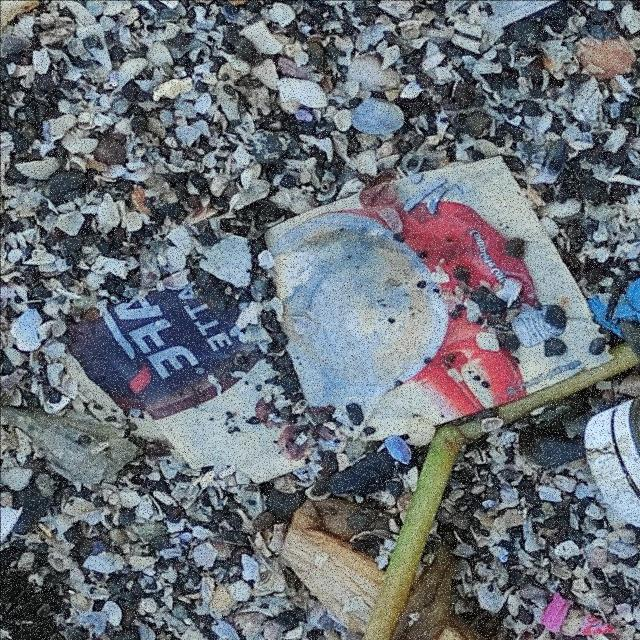plastic_waste: (58, 153, 616, 515)
